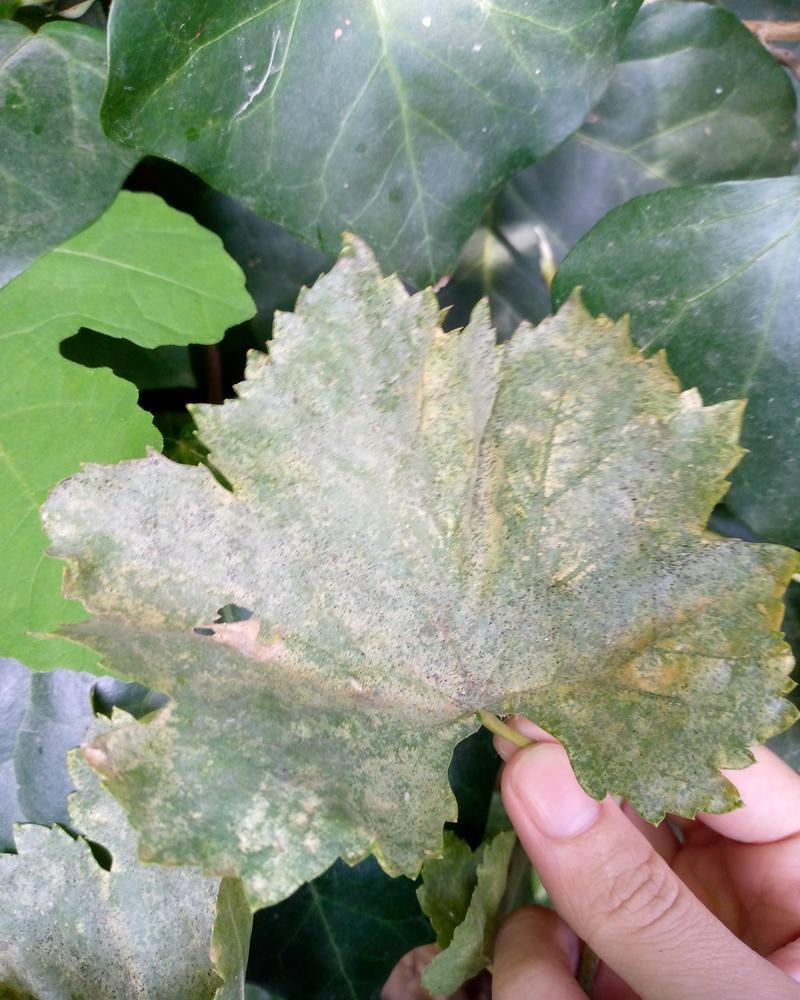Powdery-Mildew: (255, 334, 383, 606), (72, 474, 297, 607), (392, 327, 526, 534), (194, 626, 447, 732), (600, 605, 742, 742), (556, 416, 679, 570), (452, 551, 561, 684)
